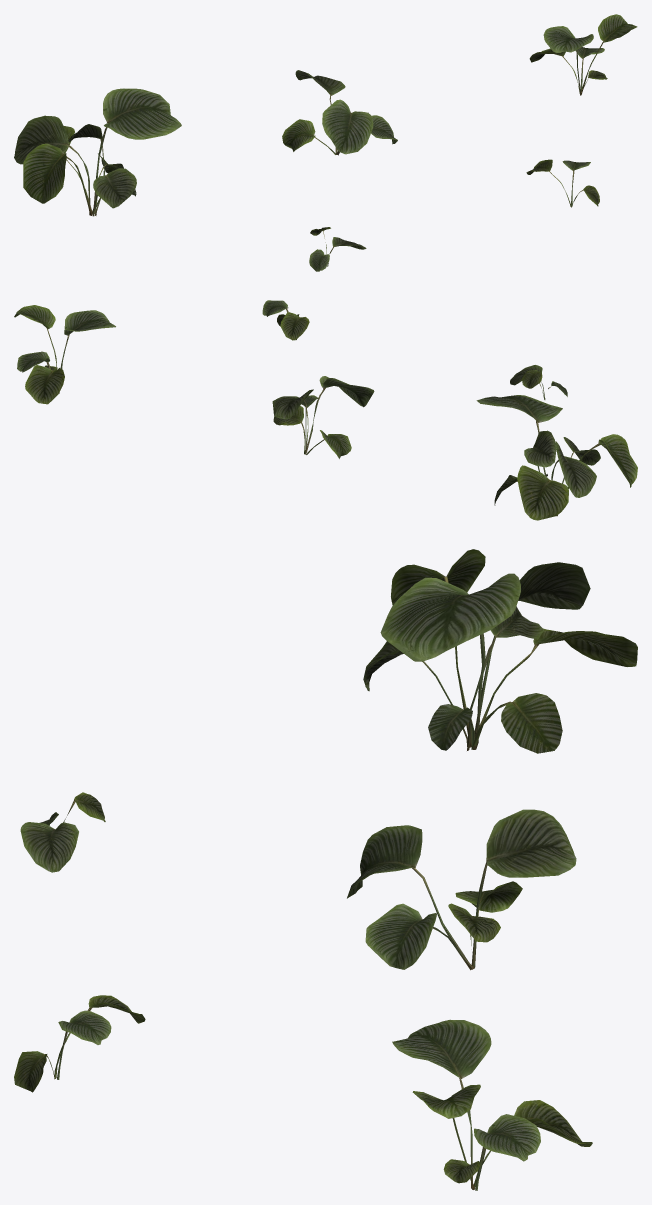
File: calathea_orbifolia_01.glb
3 views of the same model, one above another, from view 1: azimuth 30°, elevation 25°; view 2: azimuth 150°, elevation 25°; view 3: azimuth 270°, elevation 25° (orthographic). The views are drawn at different scales.
Parts seen in each view (by area): view 1: calathea_orbifolia_01_a, calathea_orbifolia_01_b, calathea_orbifolia_01_c, calathea_orbifolia_01_e, calathea_orbifolia_01_d; view 2: calathea_orbifolia_01_a, calathea_orbifolia_01_c, calathea_orbifolia_01_b, calathea_orbifolia_01_e, calathea_orbifolia_01_d; view 3: calathea_orbifolia_01_a, calathea_orbifolia_01_b, calathea_orbifolia_01_c, calathea_orbifolia_01_e, calathea_orbifolia_01_d.
Part boxes in pixels (<box>): calathea_orbifolia_01_a: <box>14,88,181,216</box>; calathea_orbifolia_01_b: <box>282,70,397,155</box>; calathea_orbifolia_01_c: <box>529,14,637,95</box>; calathea_orbifolia_01_e: <box>526,159,599,207</box>; calathea_orbifolia_01_d: <box>309,227,366,271</box>; calathea_orbifolia_01_a: <box>476,395,637,520</box>; calathea_orbifolia_01_c: <box>14,305,115,404</box>; calathea_orbifolia_01_b: <box>272,376,374,458</box>; calathea_orbifolia_01_e: <box>262,300,309,340</box>; calathea_orbifolia_01_d: <box>510,365,567,399</box>; calathea_orbifolia_01_a: <box>363,549,637,753</box>; calathea_orbifolia_01_b: <box>347,809,576,970</box>; calathea_orbifolia_01_c: <box>392,1019,592,1190</box>; calathea_orbifolia_01_e: <box>14,995,145,1092</box>; calathea_orbifolia_01_d: <box>20,792,105,872</box>.
Bounding box in the file's own units: 2.49 × 0.4239 × 1.19.
Materials: 1 (1 with a texture image).
